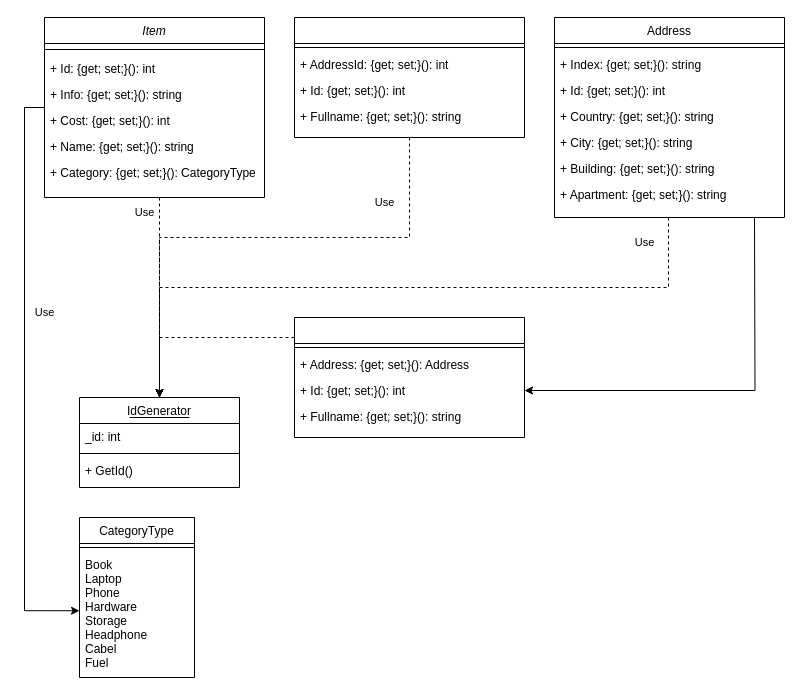
The diagram is 802 pixels wide and 698 high, and some of its shapes have lost their labels. Each missing label, with the box of its shape:
Customer: (294, 16, 524, 138)
CustomerDto: (294, 316, 524, 438)
